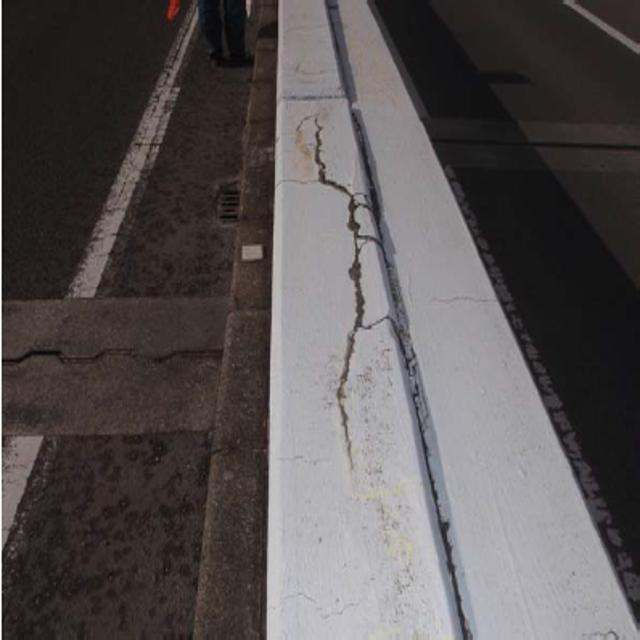crack: (307, 119, 389, 477)
